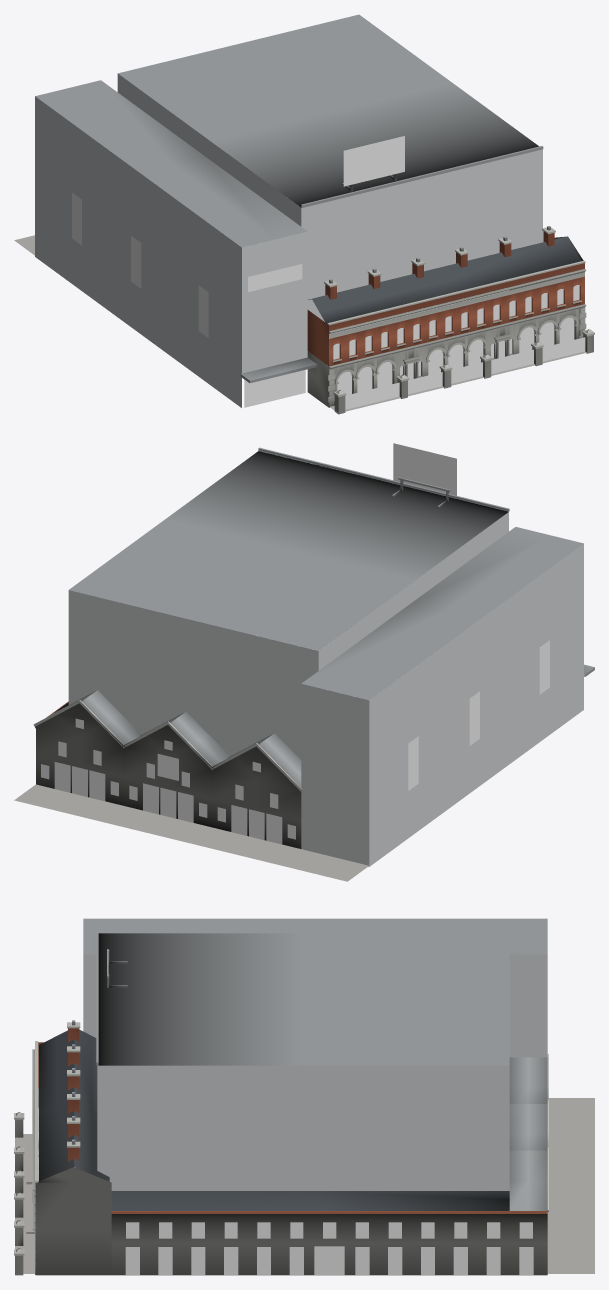
The model's file is threearena.glb.
The picture shows the model from 3 angles, top to bottom: view 1: azimuth 30°, elevation 25°; view 2: azimuth 150°, elevation 25°; view 3: azimuth 270°, elevation 25°; orthographic projection. The views are drawn at different scales.
Visible parts, largest first — view 1: ta_clad, ta_metal, ta_atlas, ta_lime, ta_brick, ta_slate, ta_pave; view 2: ta_clad, ta_metal, ta_rock, ta_atlas, ta_pave, ta_lime; view 3: ta_metal, ta_clad, ta_rock, ta_slate, ta_pave, ta_atlas, ta_lime, ta_brick.
Boxes of the visible parts, x1=… form: ta_clad: x1=35, y1=73, x2=542, y2=407; ta_metal: x1=35, y1=14, x2=550, y2=383; ta_atlas: x1=72, y1=136, x2=585, y2=409; ta_lime: x1=307, y1=227, x2=594, y2=414; ta_brick: x1=307, y1=231, x2=584, y2=366; ta_slate: x1=308, y1=236, x2=581, y2=323; ta_pave: x1=14, y1=235, x2=586, y2=412; ta_clad: x1=68, y1=512, x2=583, y2=866; ta_metal: x1=51, y1=447, x2=594, y2=787; ta_rock: x1=36, y1=703, x2=301, y2=848; ta_atlas: x1=41, y1=443, x2=549, y2=844; ta_pave: x1=14, y1=784, x2=368, y2=881; ta_lime: x1=33, y1=700, x2=302, y2=791; ta_metal: x1=72, y1=918, x2=547, y2=1210; ta_clad: x1=83, y1=954, x2=547, y2=1190; ta_rock: x1=35, y1=1167, x2=547, y2=1275; ta_slate: x1=39, y1=1029, x2=509, y2=1210; ta_pave: x1=15, y1=1098, x2=594, y2=1273; ta_atlas: x1=125, y1=1222, x2=533, y2=1275; ta_lime: x1=14, y1=1022, x2=548, y2=1275; ta_brick: x1=38, y1=1028, x2=547, y2=1213.
Bounding box in the file's own units: 44.43 × 29.1 × 61.3.
